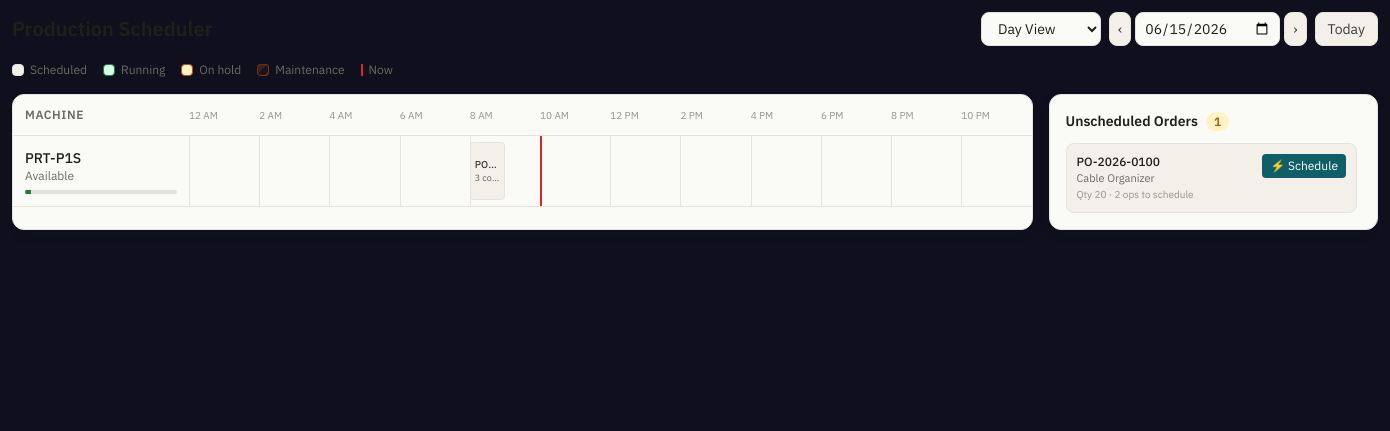
Test case: SchedulerBoard › co-booked operations (print-batch S4) › clicking a grouped block lists its members instead of opening the modal
Click the button with test id "gantt-block-31" at (487, 171), box [470,142,505,200]
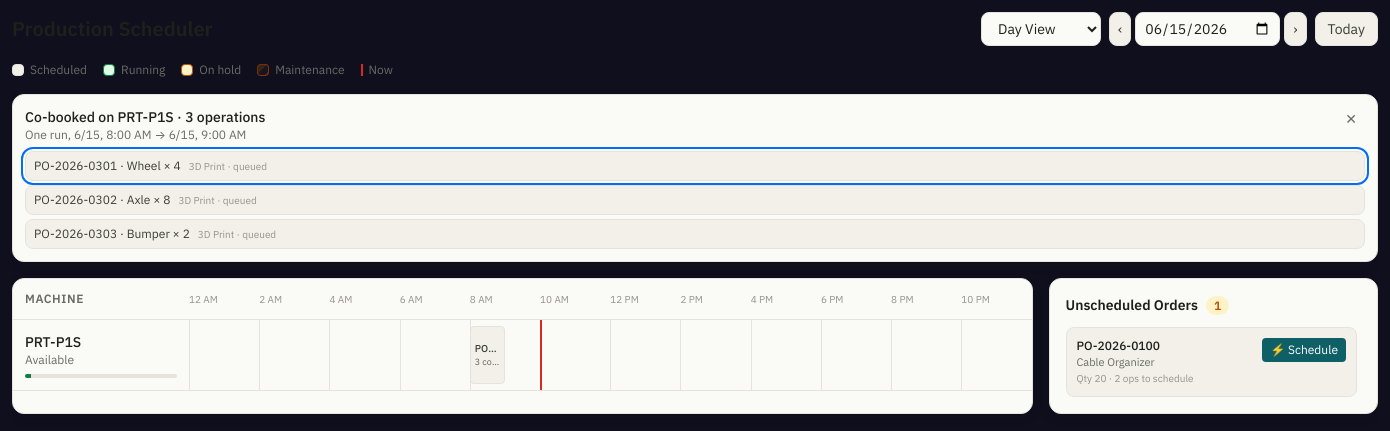
Expected: the element with test id "cobooked-members" shows "PRT-P1S", [118,108,174,126]
Expected: the element with test id "cobooked-members" shows "3 operations", [12,94,1378,262]
Expected: the button with test id "cobooked-member-31" shows "PO-2026-0301 · Wheel × 4", [25,151,1365,181]
